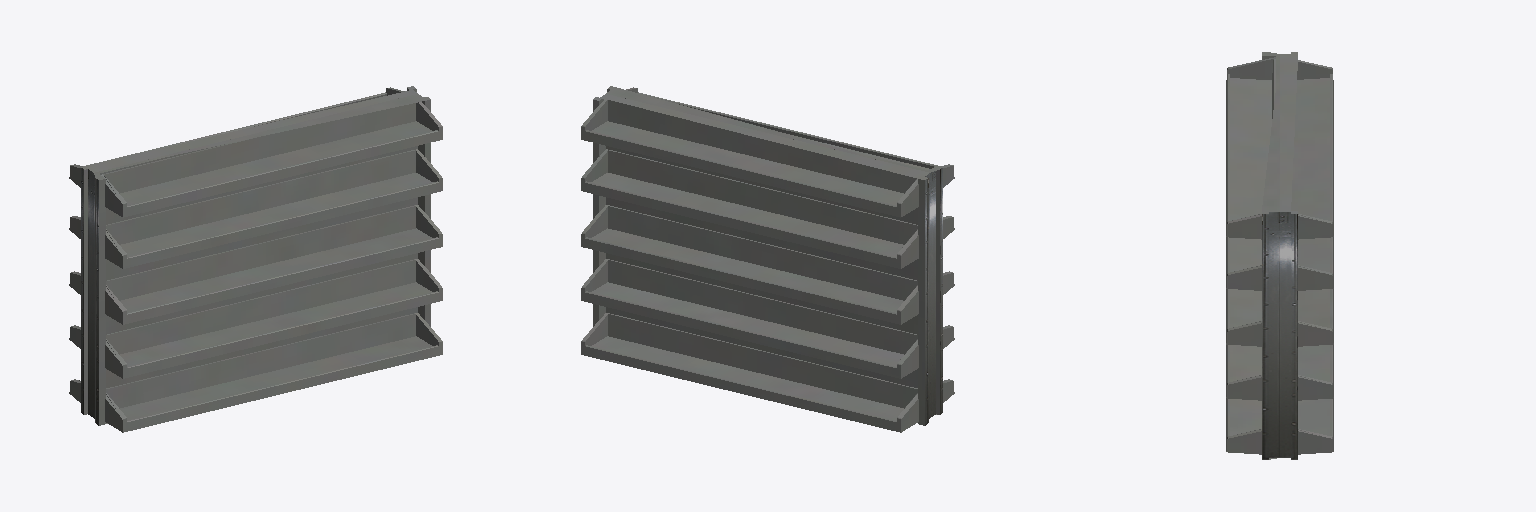
3 views of the same model, side by side, from view 1: azimuth 30°, elevation 25°; view 2: azimuth 150°, elevation 25°; view 3: azimuth 270°, elevation 25° (orthographic).
Visible parts, largest first — view 1: LibraryBookShelf.obj; view 2: LibraryBookShelf.obj; view 3: LibraryBookShelf.obj.
Part boxes in pixels (x1,y1,x2,y2): LibraryBookShelf.obj: (69, 86, 442, 432); LibraryBookShelf.obj: (581, 86, 954, 432); LibraryBookShelf.obj: (1226, 52, 1333, 459).
Bounding box in the file's own units: 20.04 × 14.15 × 5.6.
1 materials, 1 textured.